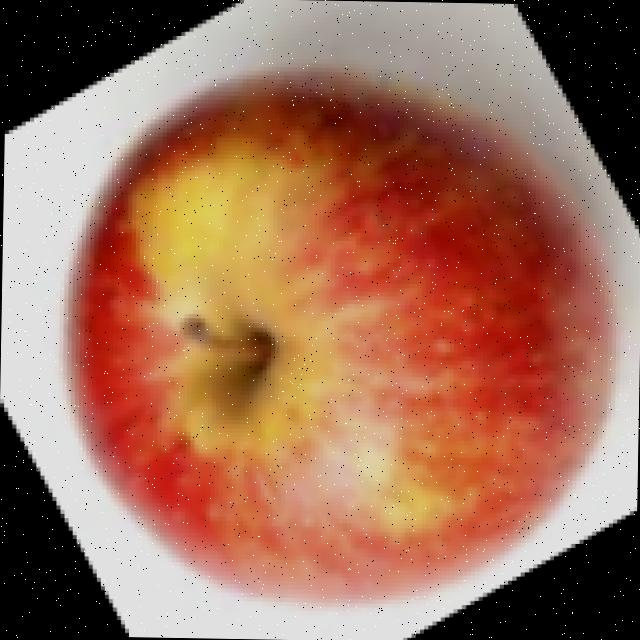Ripe: (50, 54, 628, 616)
